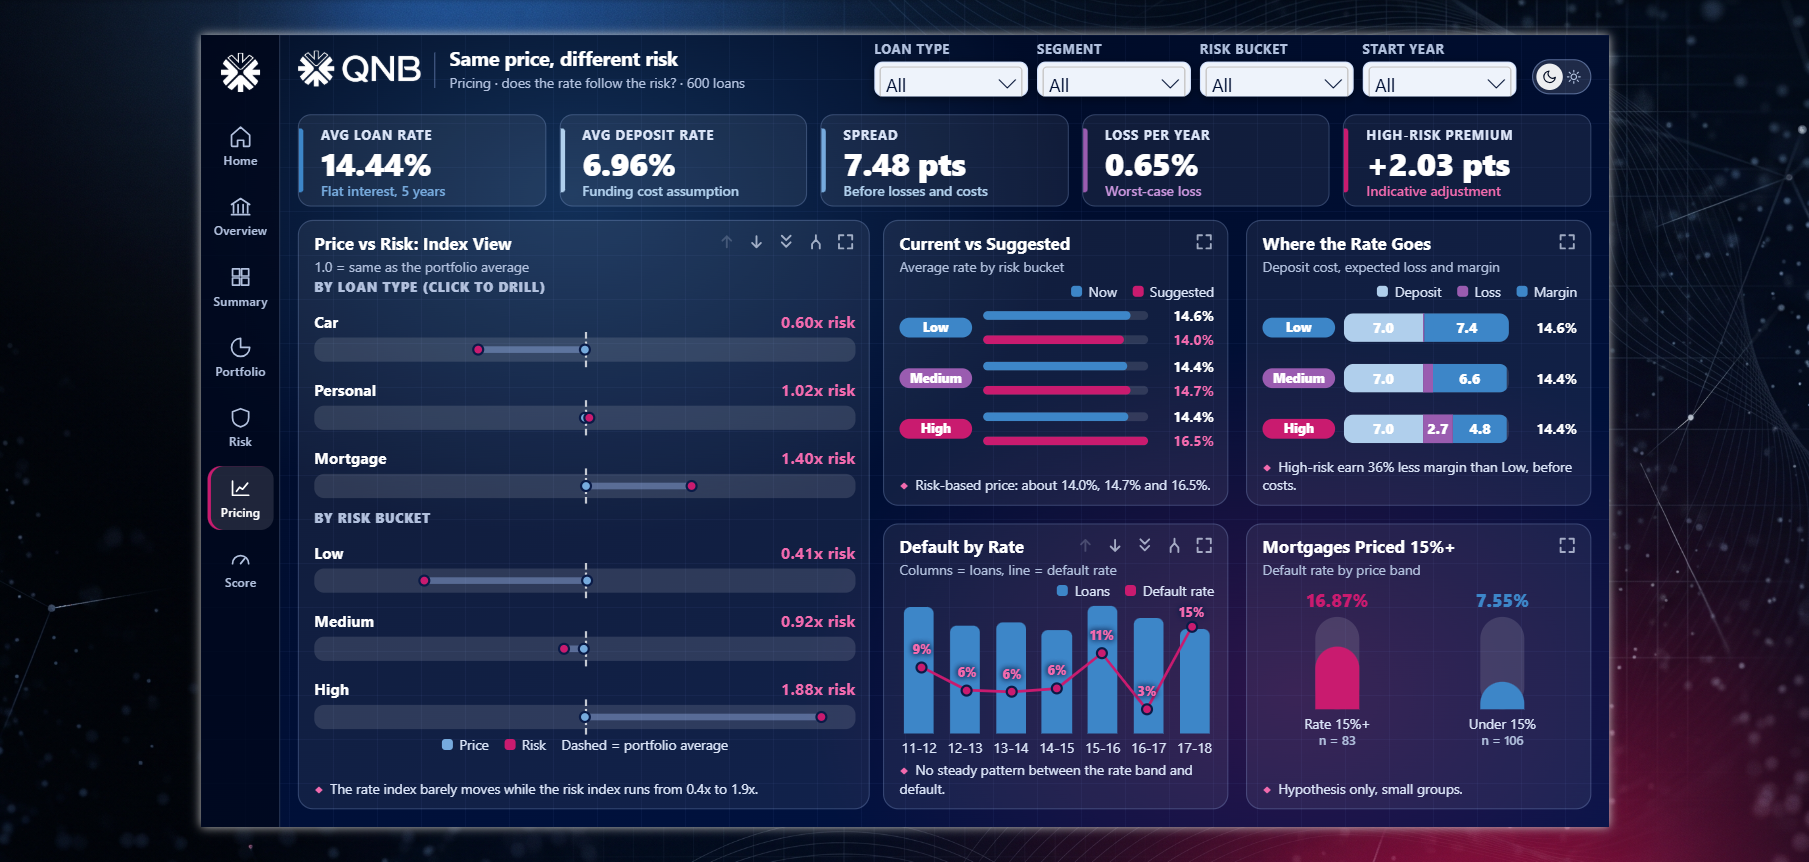

The dashboard page shown, as its layout file describes it:
{"tool":"powerbi","page":{"name":"Pricing Page","canvas":[1280,720],"ordinal":5},"visuals":[{"type":"htmlContent443BE3AD55E043BF878BED274D3A6855","fields":{"content":["HTML Visuals.page_06_pricing"]},"box":[0,0,1280,720],"z":0},{"type":"slicer","fields":{"Values":["dim_loan_type.loan_type"]},"box":[612,24,140,32],"z":101},{"type":"slicer","fields":{"Values":["dim_customer.segment"]},"box":[760,24,140,32],"z":102},{"type":"slicer","fields":{"Values":["fact_loan.risk_bucket"]},"box":[908,24,140,32],"z":103},{"type":"slicer","fields":{"Values":["fact_loan.start_year"]},"box":[1056,24,140,32],"z":104}]}

Visuals, with their boxes on the page's 1280x720 design canvas (x1, y1, x2, y2). These are canvas units, not pixel positions in the 1809x862 screenshot, which may show the page scaled, cropped or inside an application window:
htmlContent443BE3AD55E043BF878BED274D3A6855 - HTML Visuals.page_06_pricing: rect(0, 0, 1280, 720)
slicer - dim_loan_type.loan_type: rect(612, 24, 752, 56)
slicer - dim_customer.segment: rect(760, 24, 900, 56)
slicer - fact_loan.risk_bucket: rect(908, 24, 1048, 56)
slicer - fact_loan.start_year: rect(1056, 24, 1196, 56)
